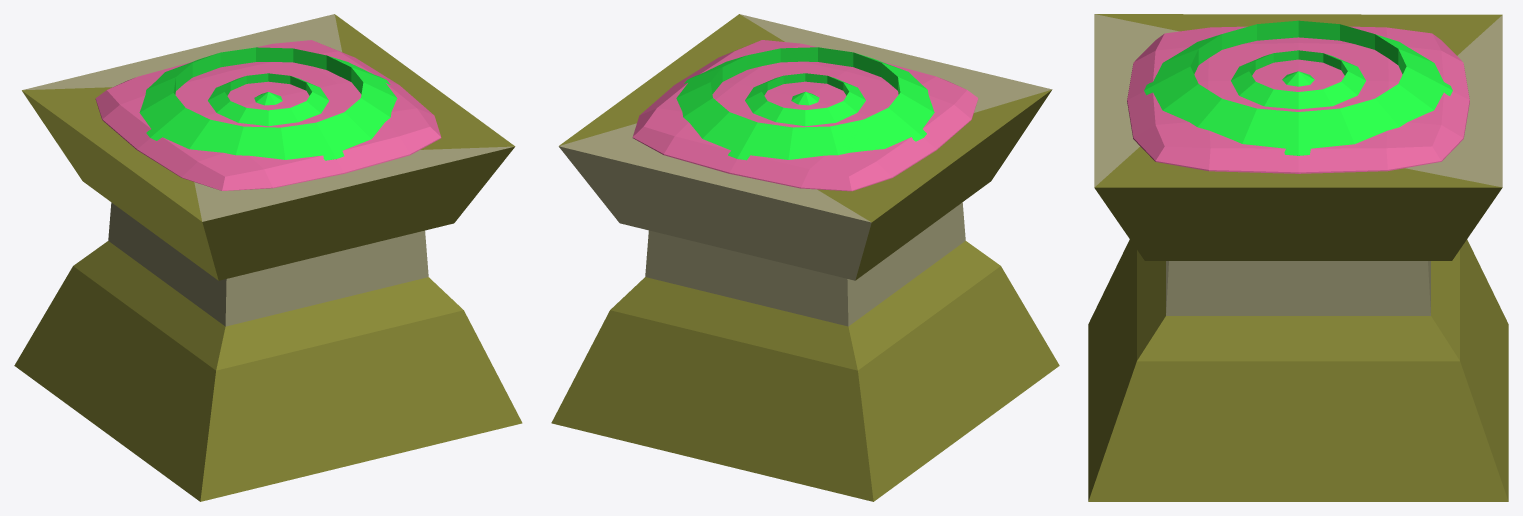
Rendered from Burner.fbx.
3 views of the same model, side by side, from view 1: azimuth 30°, elevation 25°; view 2: azimuth 150°, elevation 25°; view 3: azimuth 270°, elevation 25° (orthographic). The views are drawn at different scales.
Parts seen in each view (by area): view 1: Burner; view 2: Burner; view 3: Burner.
Part boxes in pixels (x1,y1,x2,y2): Burner: (14,14,522,501); Burner: (551,14,1059,501); Burner: (1088,14,1508,501).
Size of the model in its own units: 204 by 186 by 204.
